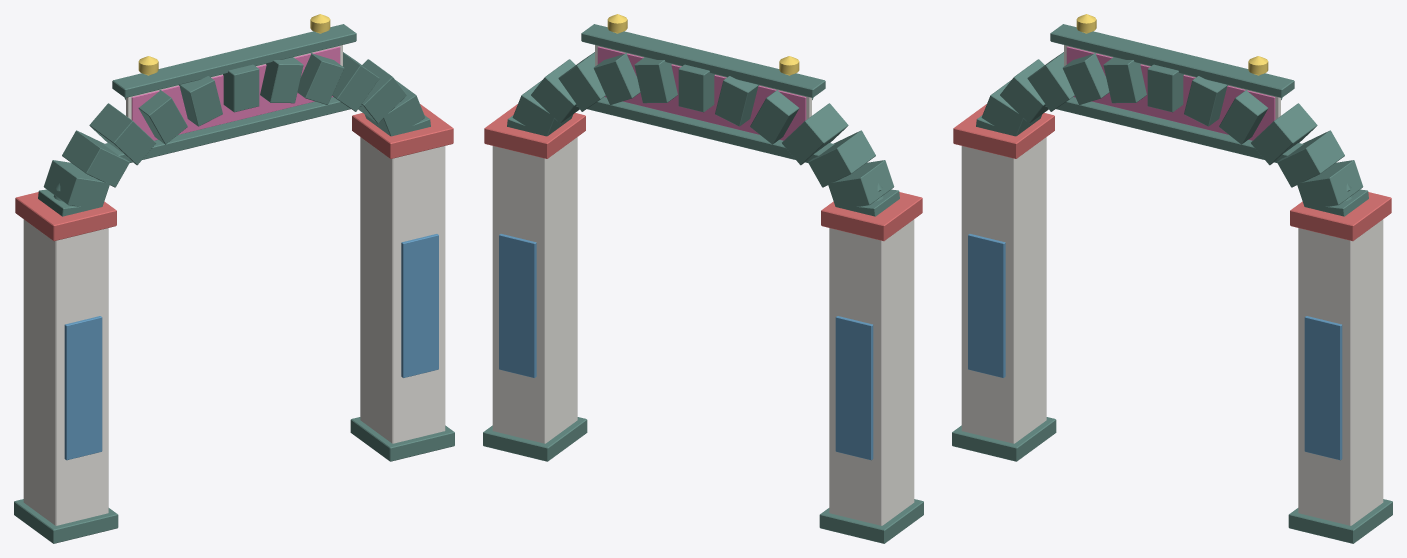
File: amusement-arcade-and-seaside-pier-pier-entrance-arch-60c95e20__35394.glb
3 renders of one model, left to right at view 1: azimuth 30°, elevation 25°; view 2: azimuth 150°, elevation 25°; view 3: azimuth 330°, elevation 25°, orthographic.
Parts seen in each view (by area): view 1: pier-entrance-arch; view 2: pier-entrance-arch; view 3: pier-entrance-arch.
Part boxes in pixels (<box>): pier-entrance-arch: <box>14,14,454,543</box>; pier-entrance-arch: <box>483,14,923,543</box>; pier-entrance-arch: <box>952,14,1392,543</box>.
Bounding box in the file's own units: 4.68 × 4.98 × 0.7998.
